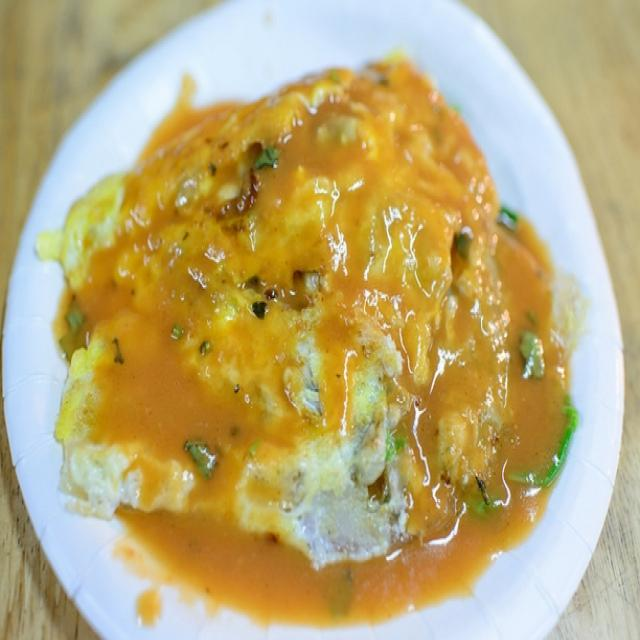熟制海鲜: (23, 27, 610, 621)
